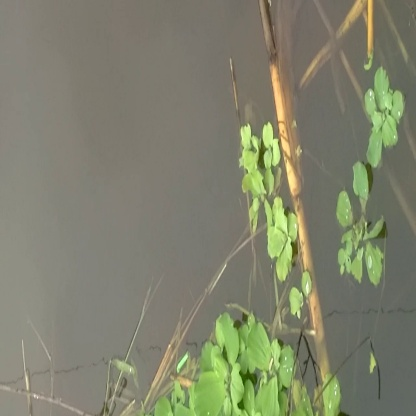leaf: (361, 72, 408, 165)
